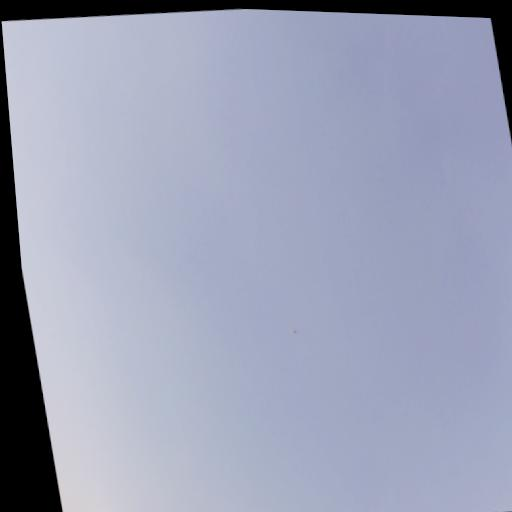drones: (289, 324, 300, 338)
